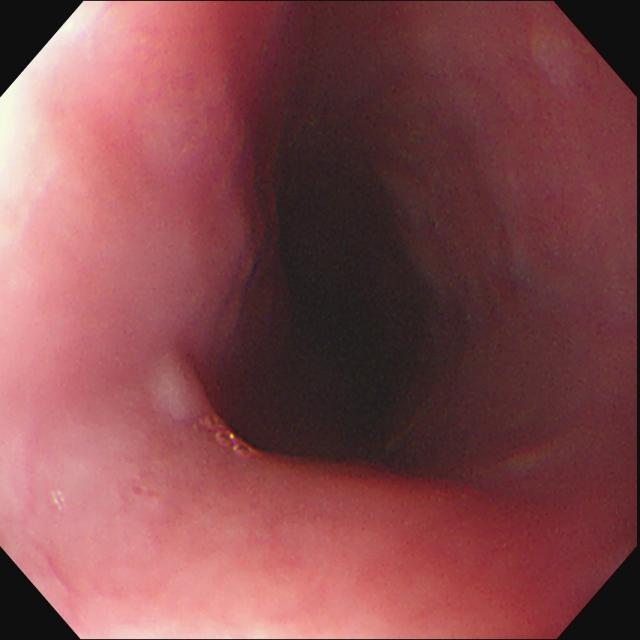E: (240, 153, 422, 442)
T: (211, 429, 256, 464)
